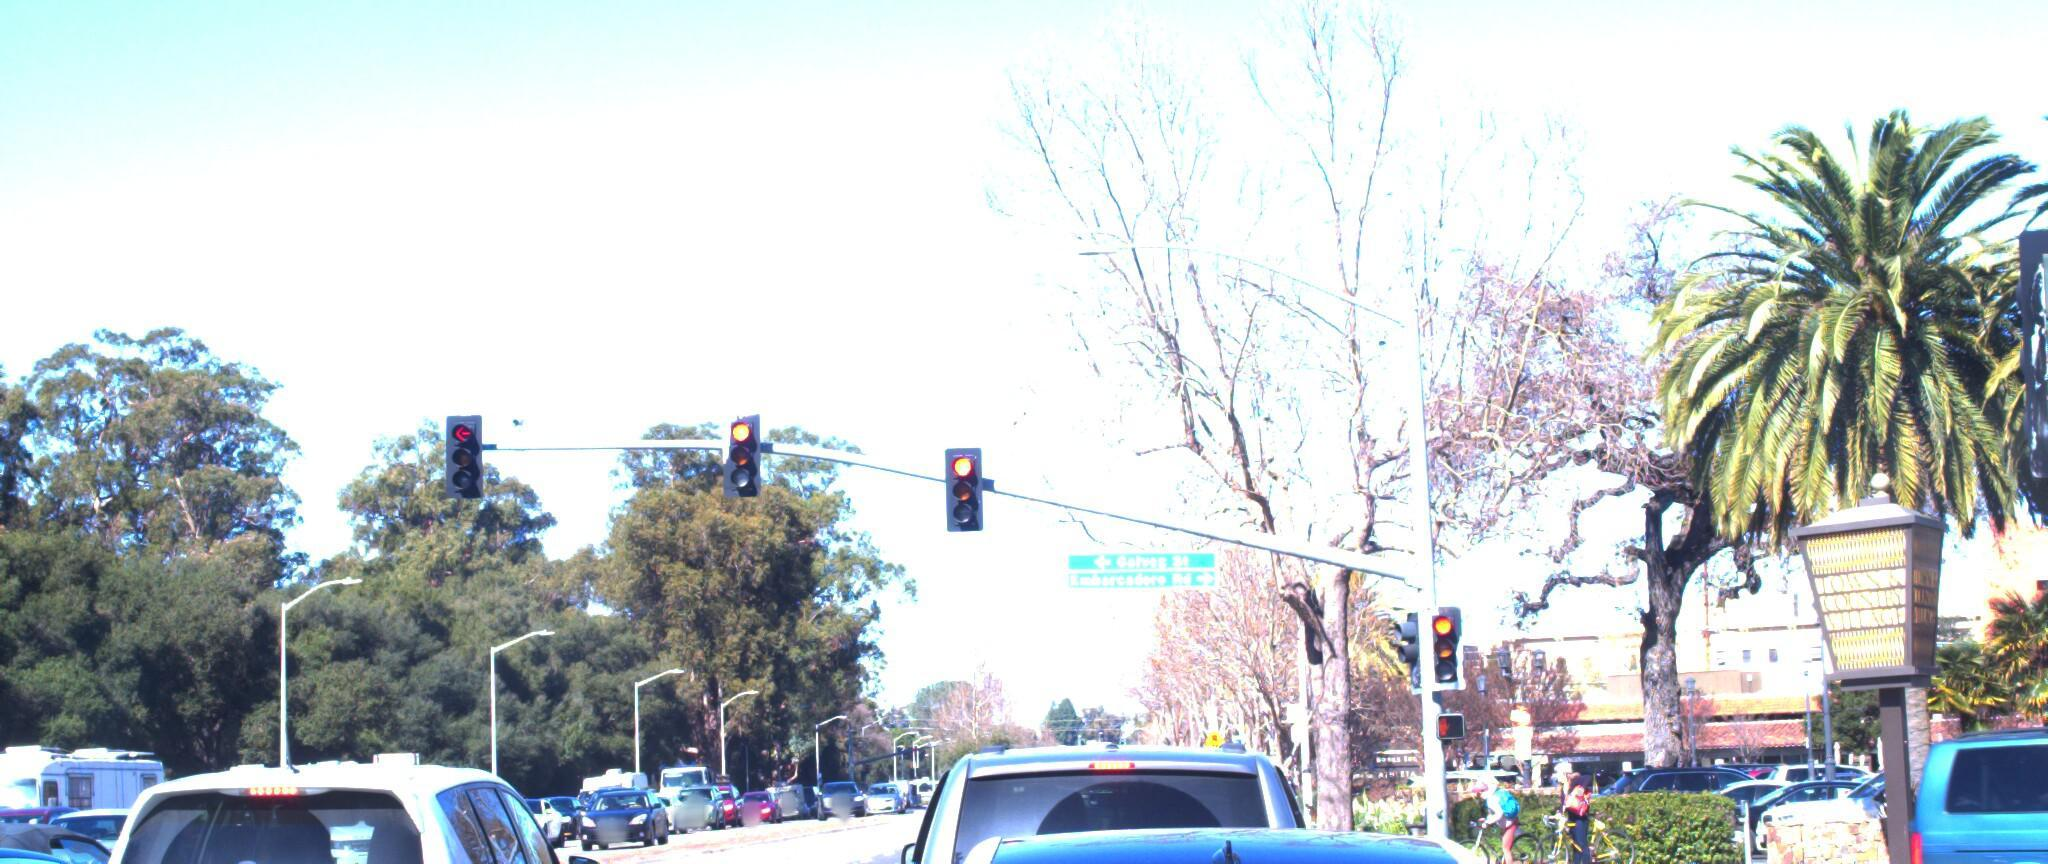car: (733, 760, 1787, 864), (68, 718, 648, 864), (878, 696, 1347, 864), (1856, 702, 2048, 864), (0, 784, 232, 864), (0, 820, 377, 864), (1721, 773, 1893, 864), (563, 786, 667, 854)
other_vehicle: (0, 727, 183, 864)
